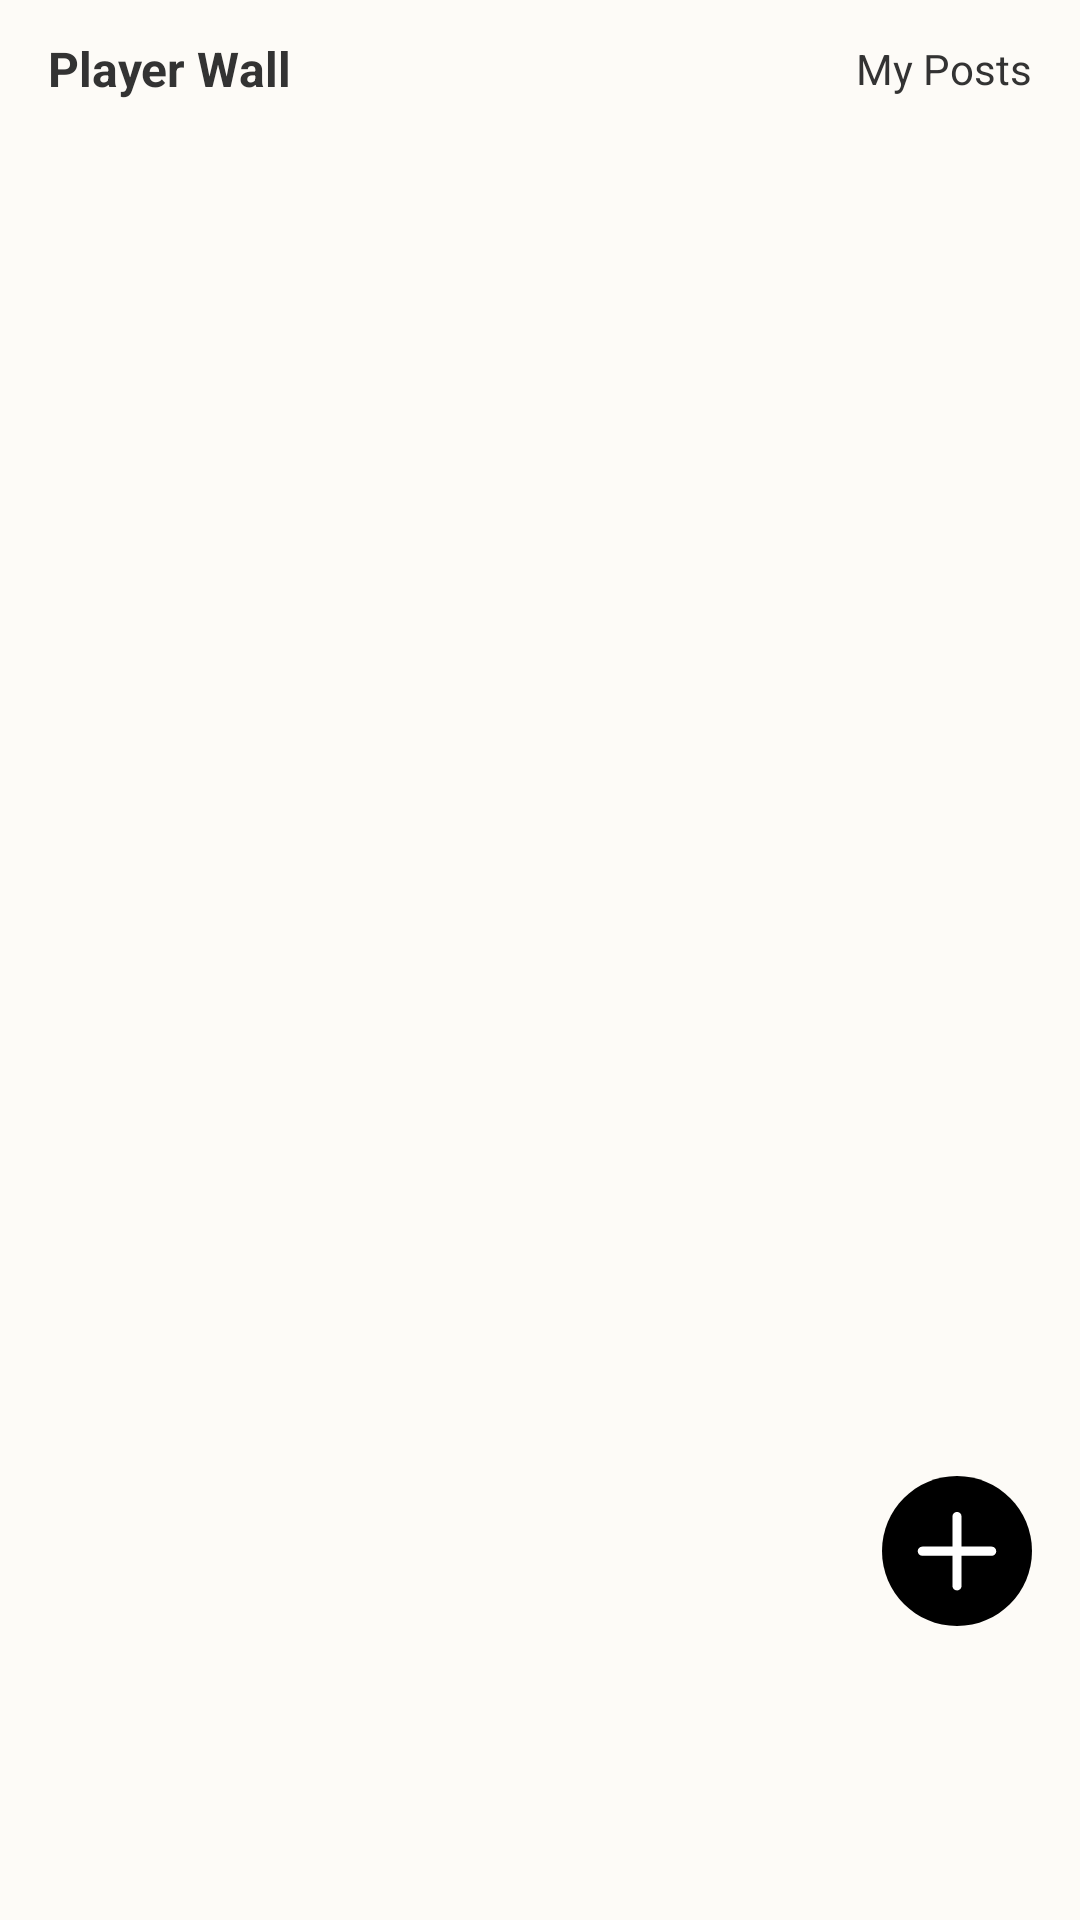

Named icons in this screenshot (1080 x 1920) and their centers, [x,y]:
post: [957,1551]
